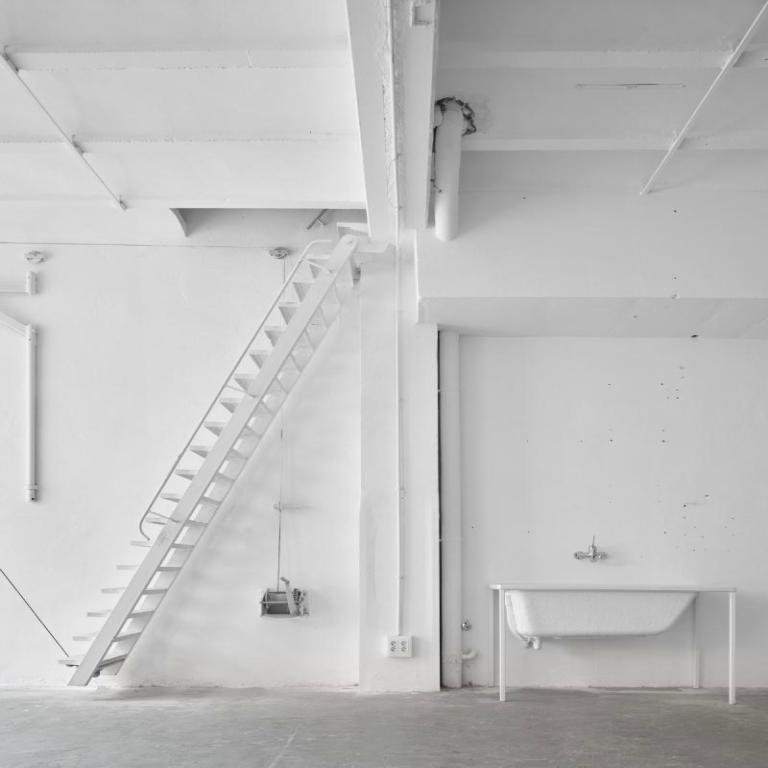white-walls: (504, 363, 728, 533)
